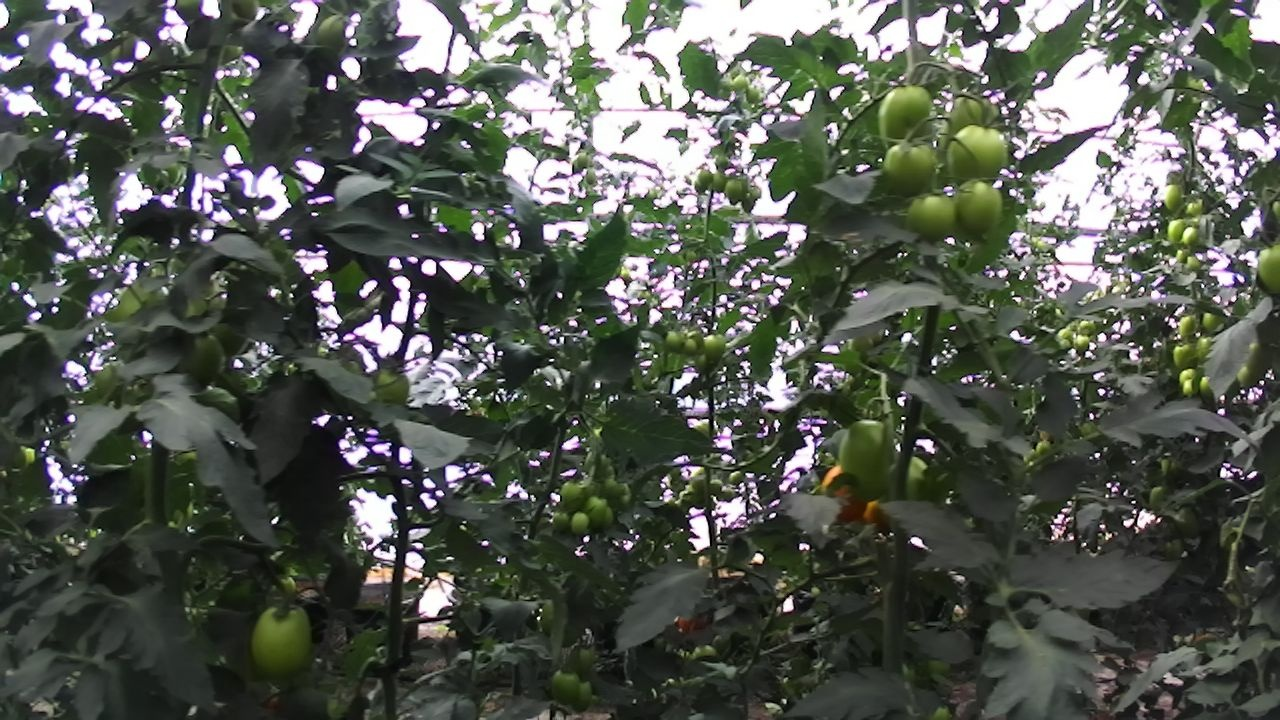tomato: (235, 578, 333, 694), (868, 76, 951, 172), (830, 407, 905, 512), (937, 112, 1019, 202), (935, 79, 1014, 170), (165, 317, 245, 394), (348, 351, 419, 431), (899, 179, 969, 254), (948, 170, 1012, 249), (815, 457, 882, 530), (879, 130, 945, 204), (309, 7, 359, 60), (545, 660, 587, 713), (1248, 234, 1280, 303), (1236, 337, 1280, 380), (564, 671, 600, 719), (1169, 502, 1210, 544), (562, 638, 602, 681), (698, 327, 734, 367), (1231, 358, 1268, 394), (1167, 336, 1200, 375), (582, 489, 611, 532), (555, 474, 589, 510), (1196, 302, 1227, 338), (1141, 480, 1171, 516), (1158, 179, 1187, 215), (1173, 310, 1205, 342), (659, 325, 689, 358), (548, 504, 576, 536), (1163, 214, 1190, 244), (567, 507, 594, 537), (720, 174, 746, 205), (1177, 374, 1204, 401), (1029, 433, 1056, 460), (1175, 360, 1200, 389), (678, 332, 702, 362), (707, 169, 732, 196), (738, 186, 759, 218), (1178, 221, 1201, 250), (1069, 329, 1093, 356), (693, 167, 718, 192), (724, 467, 750, 490), (729, 71, 753, 95), (742, 81, 764, 107), (705, 474, 727, 499), (717, 483, 739, 506), (573, 149, 595, 171), (581, 163, 601, 187)
